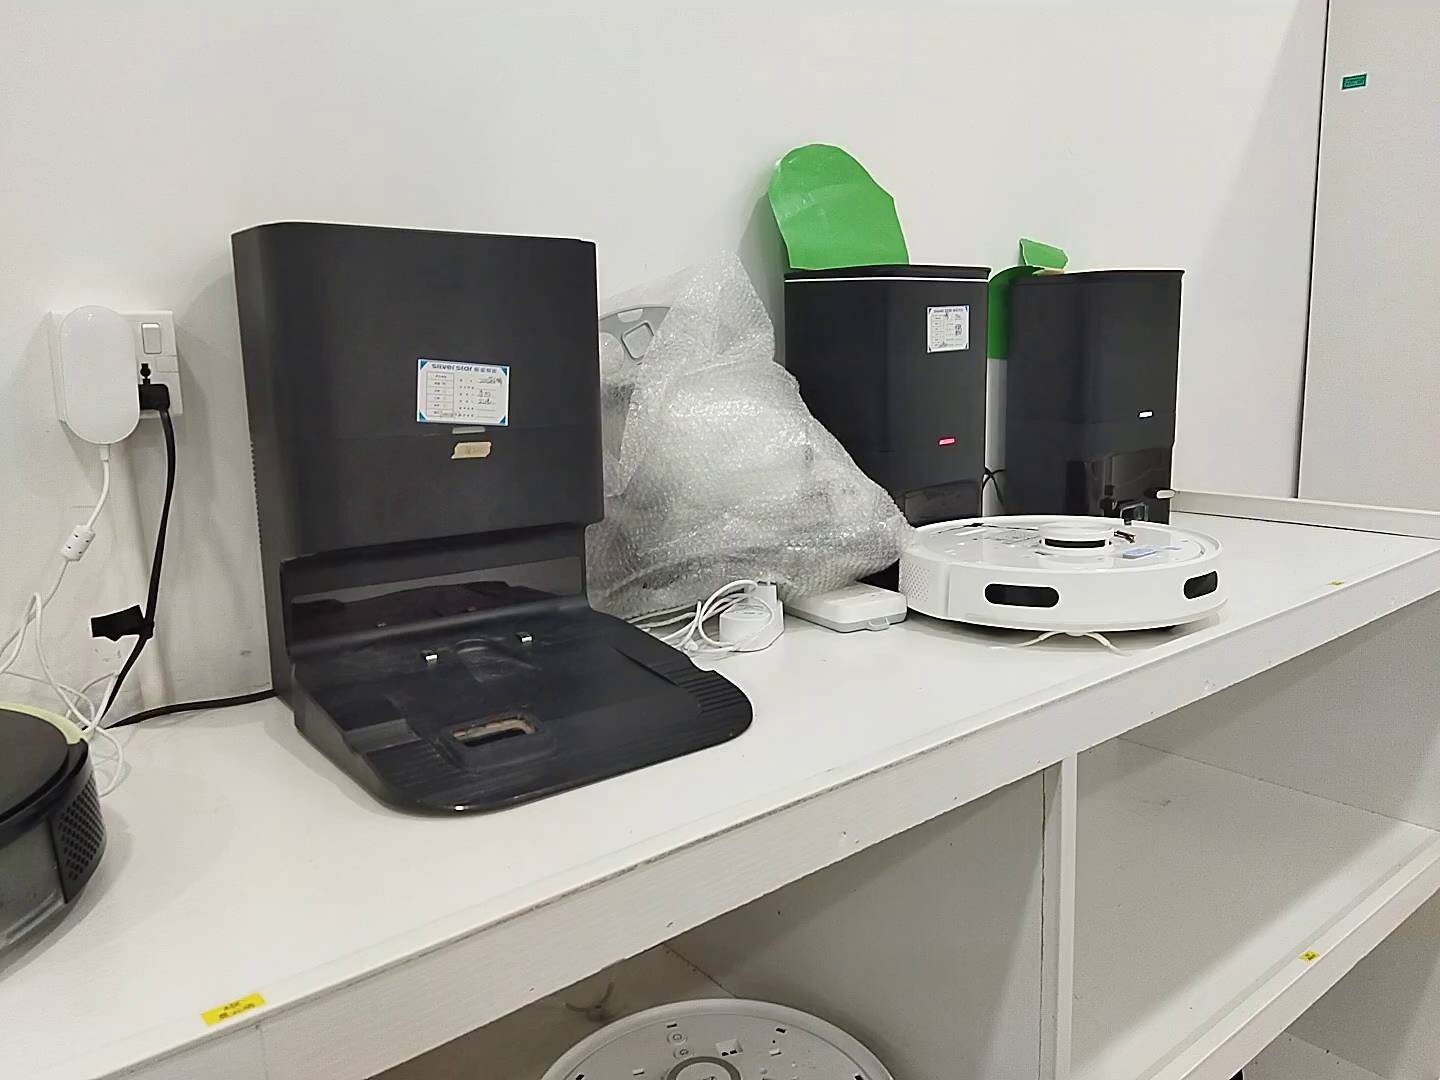dust collecting barrel: (230, 221, 752, 818), (786, 264, 991, 528), (1007, 270, 1186, 525)
